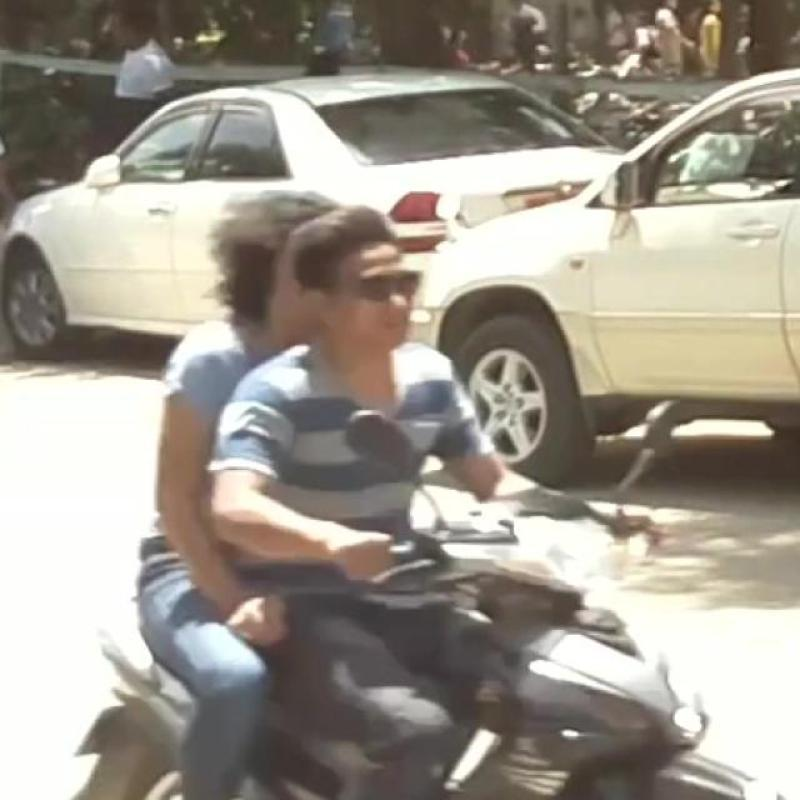nohelmet: (273, 212, 458, 354)
